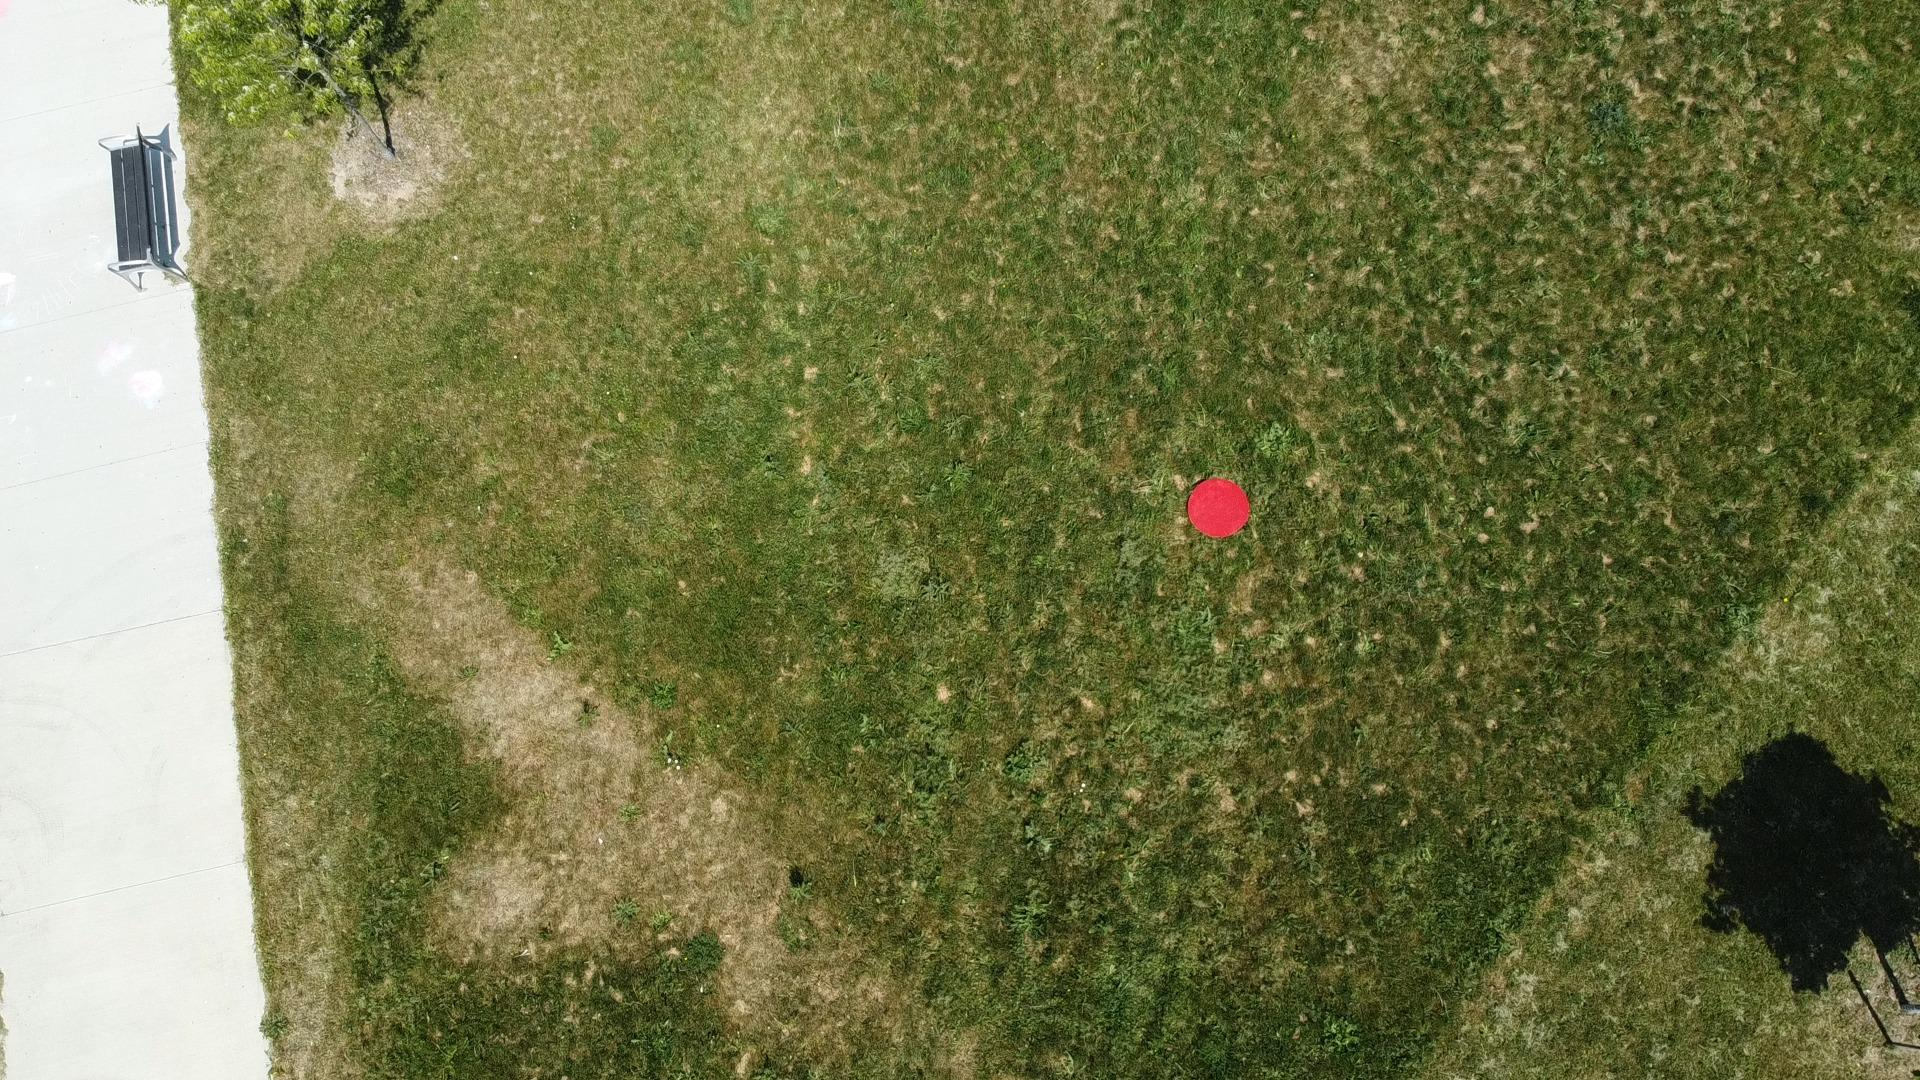Red: (1184, 475, 1253, 539)
